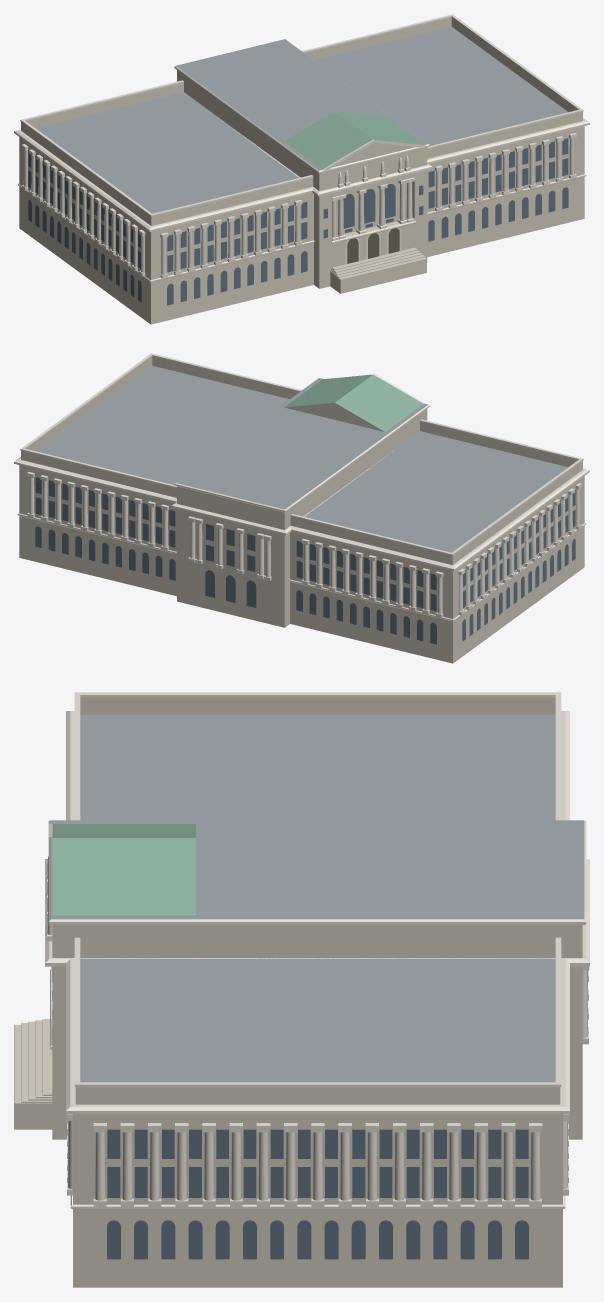
File: cle-cuyahoga-county-courthouse.glb
3 views of the same model, one above another, from view 1: azimuth 30°, elevation 25°; view 2: azimuth 150°, elevation 25°; view 3: azimuth 270°, elevation 25° (orthographic). The views are drawn at different scales.
Visible parts, largest first — view 1: Cuyahoga County Courthouse; view 2: Cuyahoga County Courthouse; view 3: Cuyahoga County Courthouse.
Part boxes in pixels (left/top/right/bottom): Cuyahoga County Courthouse: left=14, top=14, right=589, bottom=324; Cuyahoga County Courthouse: left=14, top=353, right=589, bottom=663; Cuyahoga County Courthouse: left=14, top=692, right=589, bottom=1287.
Bounding box in the file's own units: 118 × 35.05 × 72.1.
